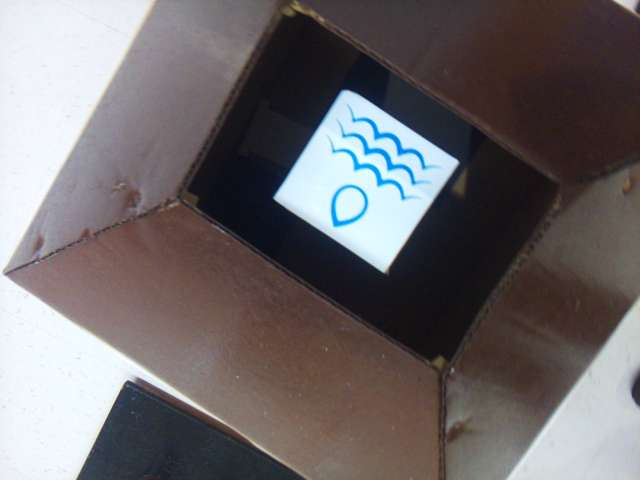water_barn: (280, 92, 457, 272)
